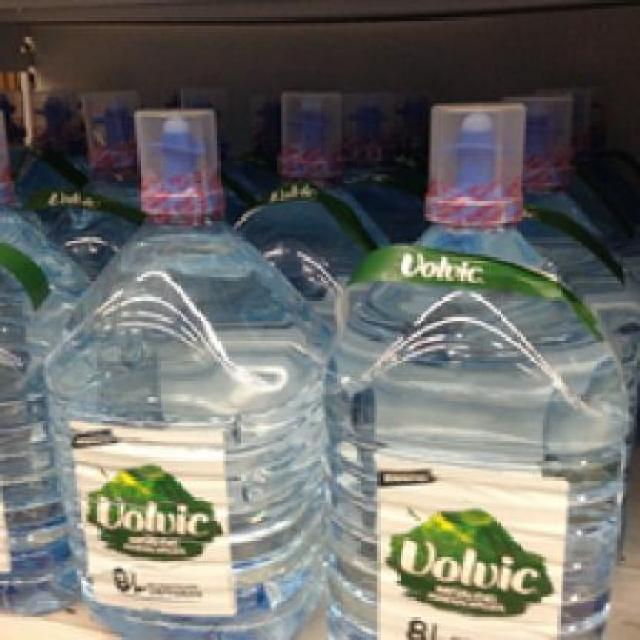Water: (314, 91, 632, 634), (40, 102, 323, 638)
